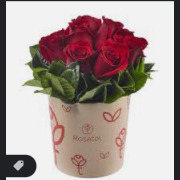RedRose: (117, 29, 150, 68), (92, 44, 126, 80), (36, 30, 69, 65), (64, 33, 95, 70), (93, 14, 124, 47), (64, 10, 97, 35)
